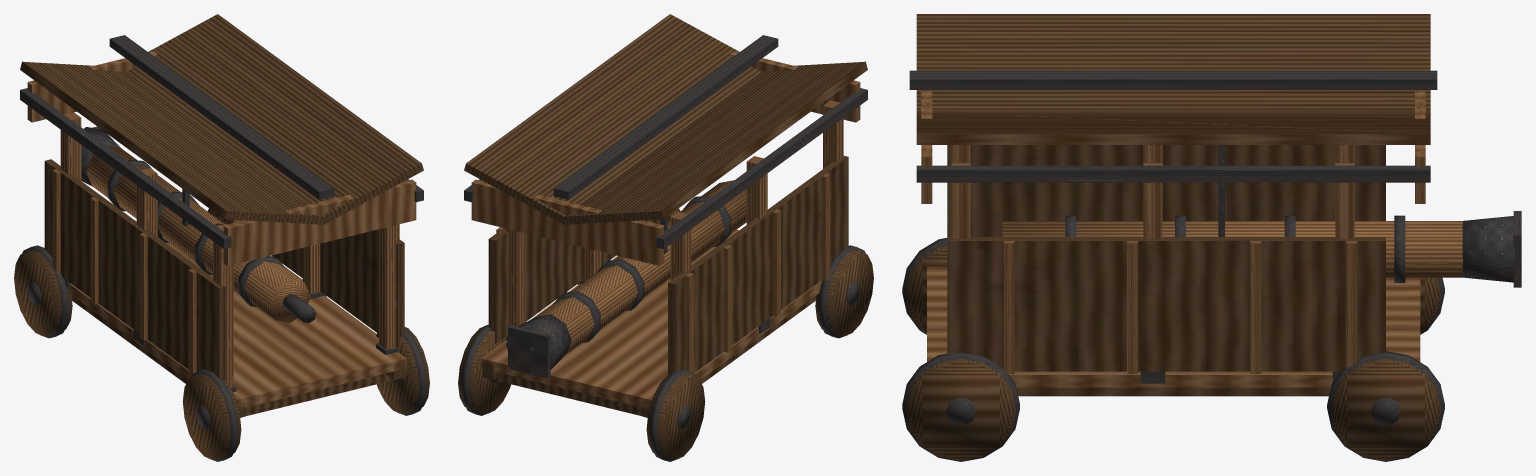
Rendered from ae_ram_lod0.glb.
3 renders of one model, left to right at view 1: azimuth 30°, elevation 25°; view 2: azimuth 150°, elevation 25°; view 3: azimuth 270°, elevation 25°, orthographic. The views are drawn at different scales.
Parts seen in each view (by area): view 1: roofR, wallL, roofL, floor, gable_r, log_core, wallR, ridge, eaveL, wheel_RL_rim, wheel_FL_rim, post_1_0 (+19 smaller); view 2: roofR, roofL, wallL, floor, gable_f, log_core, wallR, ridge, eaveL, wheel_FL_rim, wheel_RL_rim, wheel_FR_rim (+20 smaller); view 3: wallR, roofL, wallL, roofR, ridge, floor, eaveR, log_core, wheel_RR_rim, wheel_FR_rim, ram_head, runnerR (+17 smaller).
Boxes of the visible parts, x1,y1,x2,y2 form: roofR: (126,14,423,224); wallL: (44,159,225,380); roofL: (20,61,325,224); floor: (68,243,406,408); gable_r: (223,179,416,265); log_core: (86,146,310,322); wallR: (224,219,404,347); ridge: (109,35,334,199); eaveL: (20,88,231,248); wheel_RL_rim: (182,373,241,459); wheel_FL_rim: (14,250,72,336); post_1_0: (379,224,399,349); roofR: (464,14,761,224); roofL: (562,61,867,224); wallL: (668,155,848,374); floor: (481,229,822,409); gable_f: (471,179,664,265); log_core: (537,180,746,354); wallR: (488,219,660,343); ridge: (553,35,778,199); eaveL: (656,88,867,248); wheel_FL_rim: (646,373,705,459); wheel_RL_rim: (815,250,873,336); wheel_FR_rim: (458,327,510,413); wallR: (947,237,1385,371); roofL: (916,14,1430,110); wallL: (947,145,1385,236); roofR: (916,111,1430,144); ridge: (909,70,1437,89); floor: (927,266,1420,387); eaveR: (916,165,1430,182); log_core: (1002,221,1462,277); wheel_RR_rim: (906,359,1015,460); wheel_FR_rim: (1331,359,1440,460); ram_head: (1462,216,1514,282); runnerR: (1016,387,1330,396).
Bounding box in the file's own units: 2.2 × 2.64 × 4.52.
Materials: 2 (2 with a texture image).
